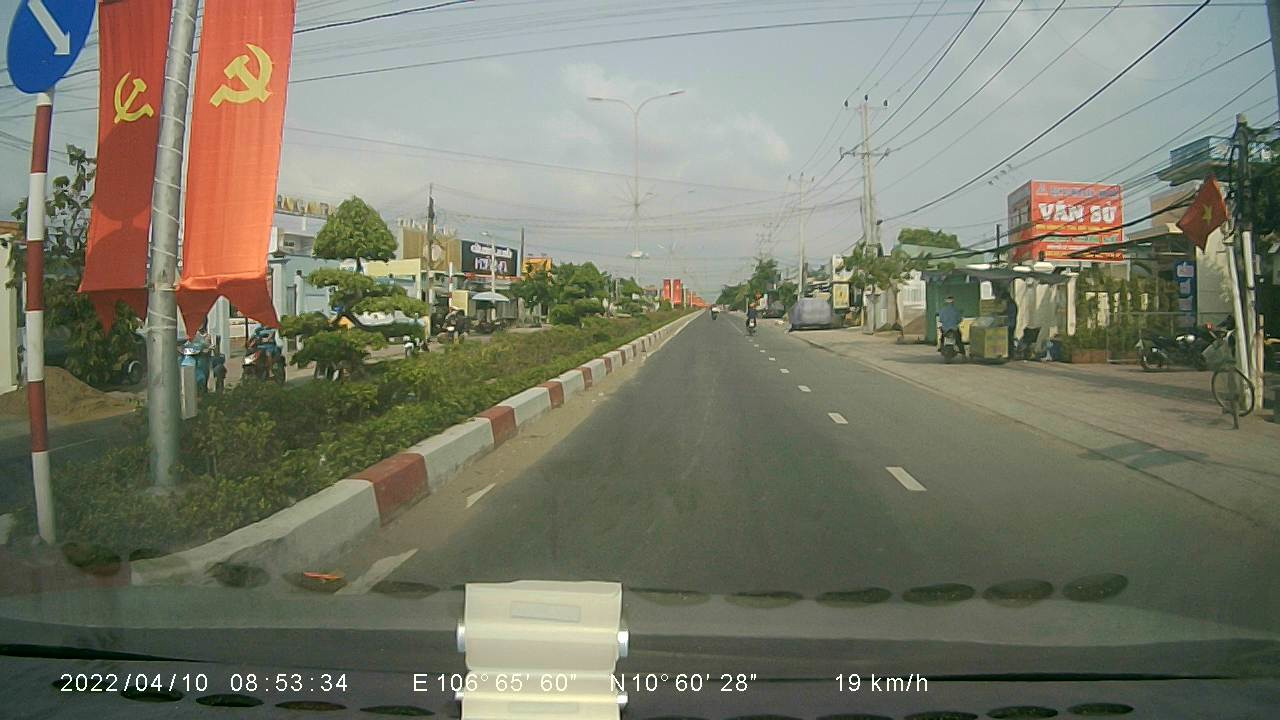Huong di phai re phai: (3, 1, 95, 93)
